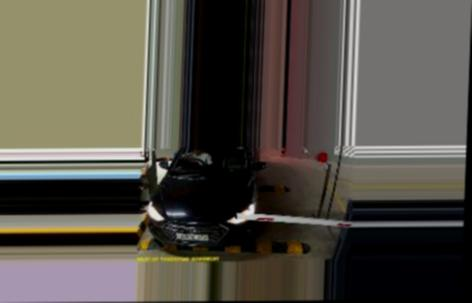License_Plate: (176, 231, 206, 242)
